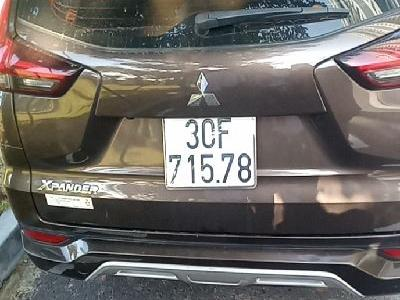lisence: (161, 116, 260, 191)
